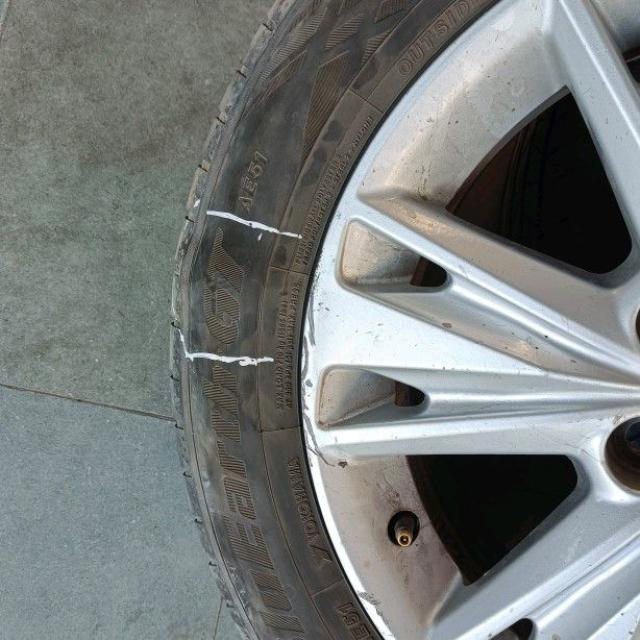Bulge: (161, 223, 284, 350)
